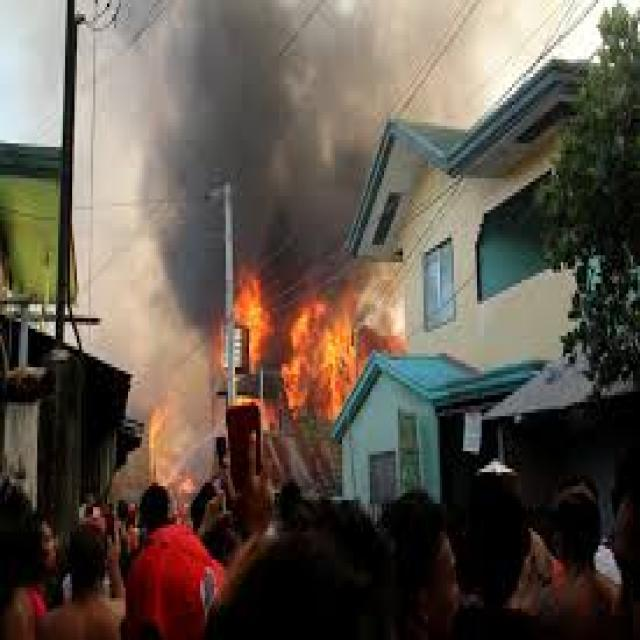Fire: (280, 288, 366, 426), (216, 262, 276, 384), (149, 408, 199, 493)
Smoke: (160, 2, 388, 332)
